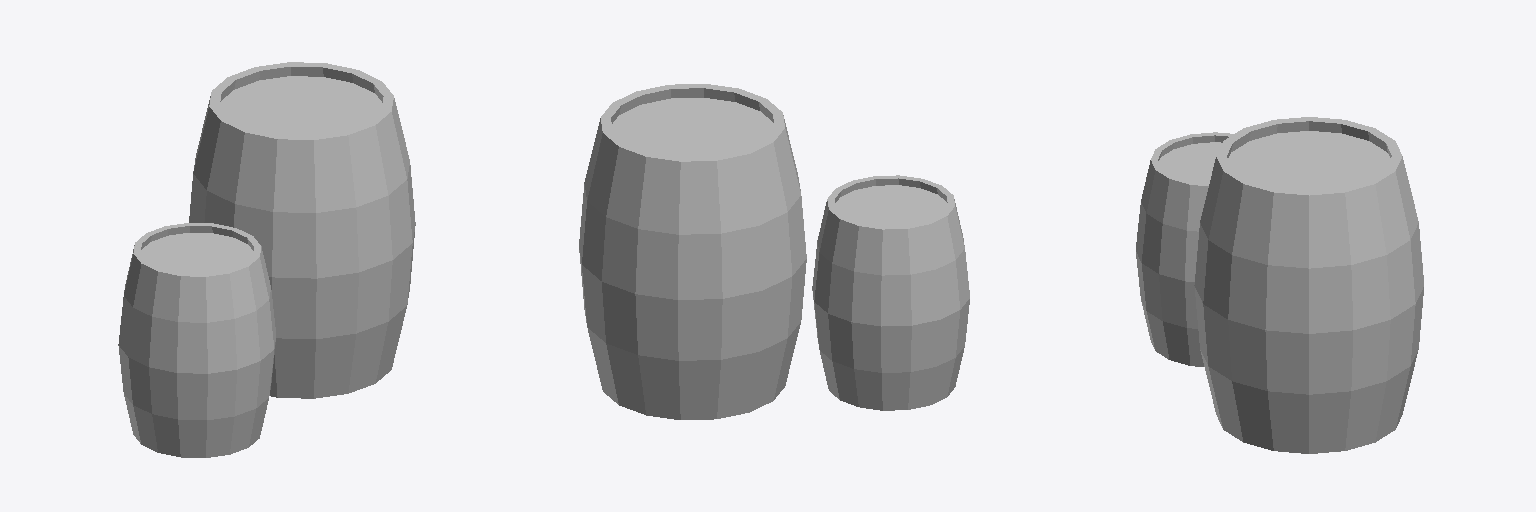
The model's file is Barriles.obj.
3 renders of one model, left to right at view 1: azimuth 30°, elevation 25°; view 2: azimuth 150°, elevation 25°; view 3: azimuth 270°, elevation 25°, orthographic.
Visible parts, largest first — view 1: group2; view 2: group2; view 3: group2.
Boxes of the visible parts, x1=… form: group2: x1=118, y1=62, x2=415, y2=457; group2: x1=579, y1=84, x2=969, y2=419; group2: x1=1136, y1=117, x2=1423, y2=453.
Bounding box in the file's own units: 15.85 × 12.25 × 12.4.